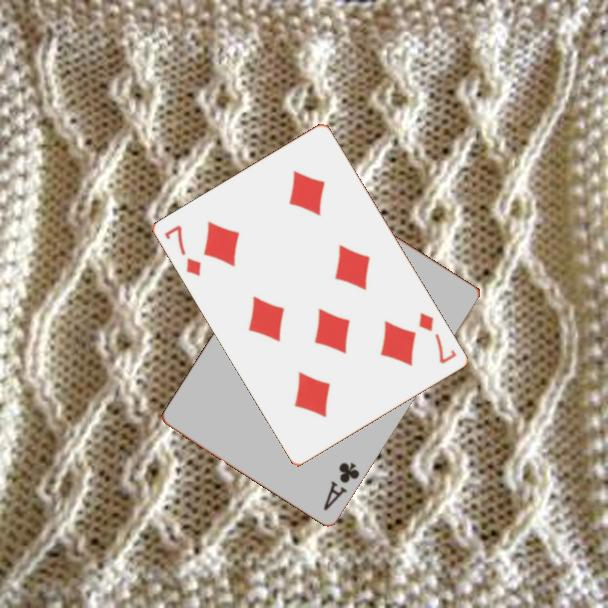c01: (320, 458, 363, 513)
d07: (415, 309, 460, 367), (161, 221, 205, 279)
